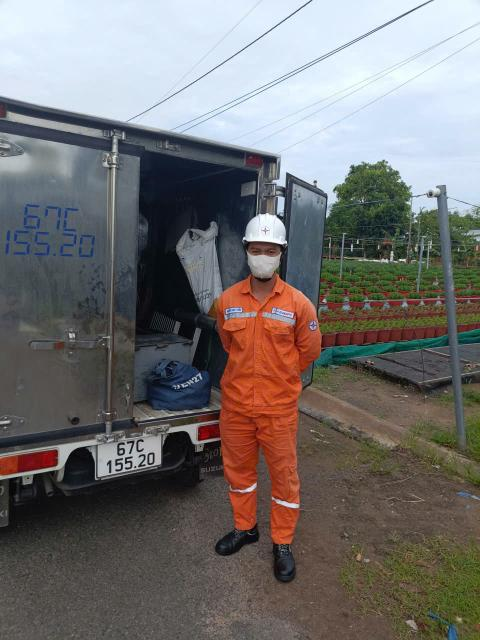helmet: (243, 201, 289, 257)
shoes: (216, 518, 262, 558), (272, 533, 298, 588)
